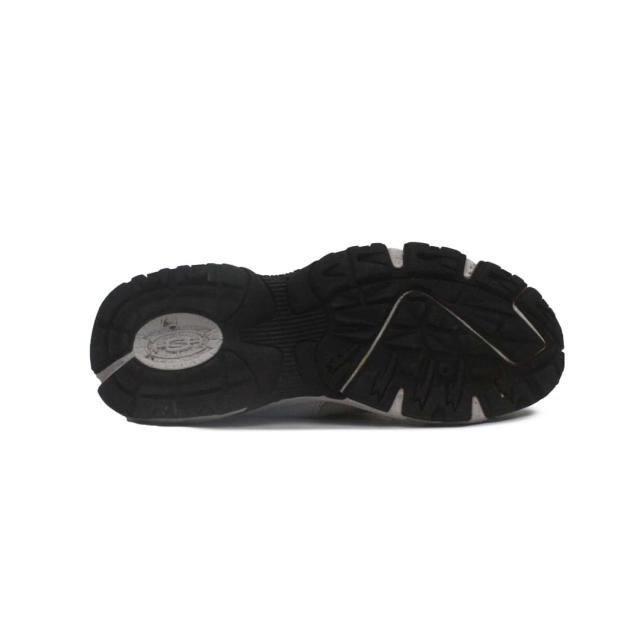outersole: (73, 241, 565, 422)
